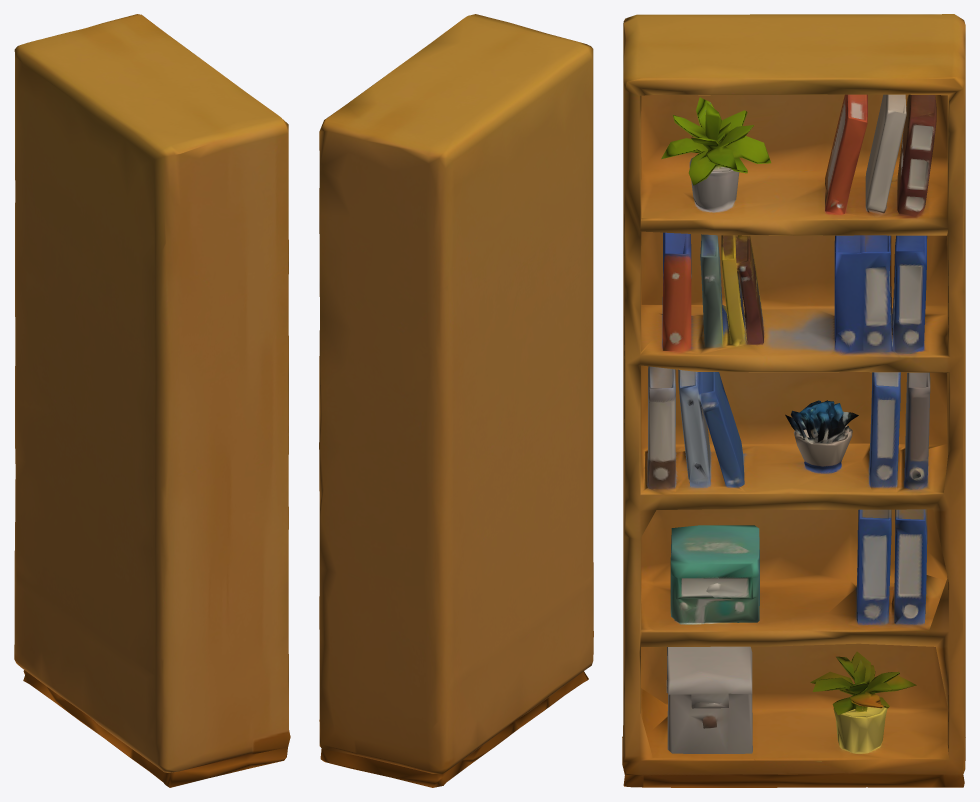
Rendered from bookshelf.glb.
3 views of the same model, side by side, from view 1: azimuth 30°, elevation 25°; view 2: azimuth 150°, elevation 25°; view 3: azimuth 270°, elevation 25° (orthographic). The views are drawn at different scales.
Parts seen in each view (by area): view 1: tripo_node_43bdbe9a-e26e-49dc-af14-6d21e30f9280; view 2: tripo_node_43bdbe9a-e26e-49dc-af14-6d21e30f9280; view 3: tripo_node_43bdbe9a-e26e-49dc-af14-6d21e30f9280.
Boxes of the visible parts, bbox=[...] form: tripo_node_43bdbe9a-e26e-49dc-af14-6d21e30f9280: bbox=[14, 14, 290, 787]; tripo_node_43bdbe9a-e26e-49dc-af14-6d21e30f9280: bbox=[319, 14, 593, 787]; tripo_node_43bdbe9a-e26e-49dc-af14-6d21e30f9280: bbox=[622, 14, 965, 787].
Bounding box in the file's own units: 0.2257 × 1 × 0.4368.
Materials: 1 (1 with a texture image).
